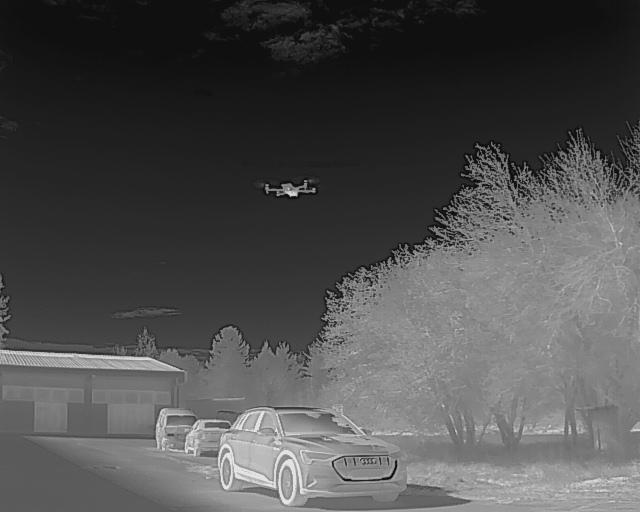drone: (256, 172, 325, 205)
